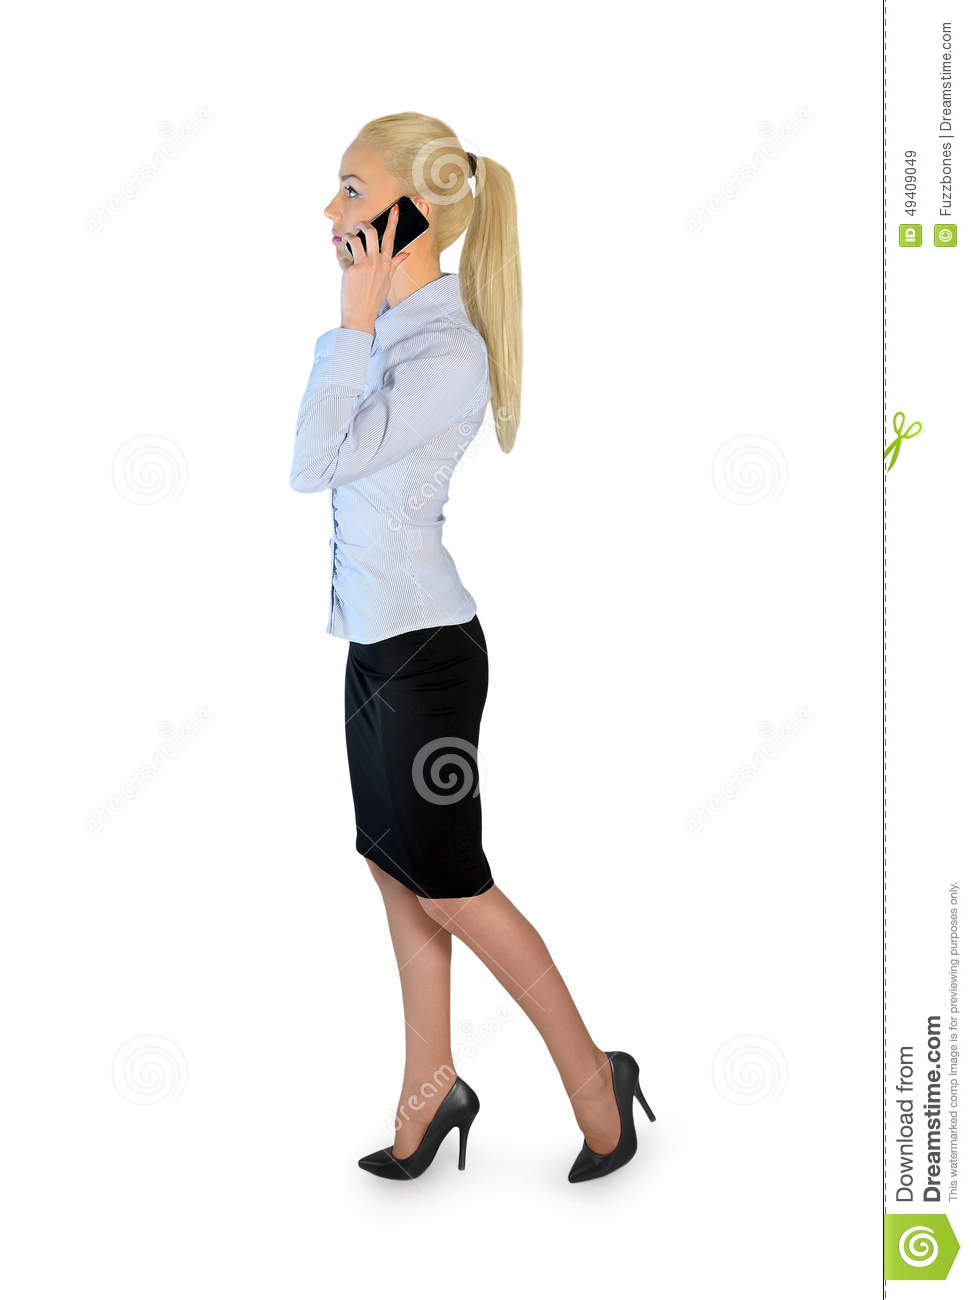phone: (346, 195, 430, 273)
talk: (320, 169, 430, 336)
